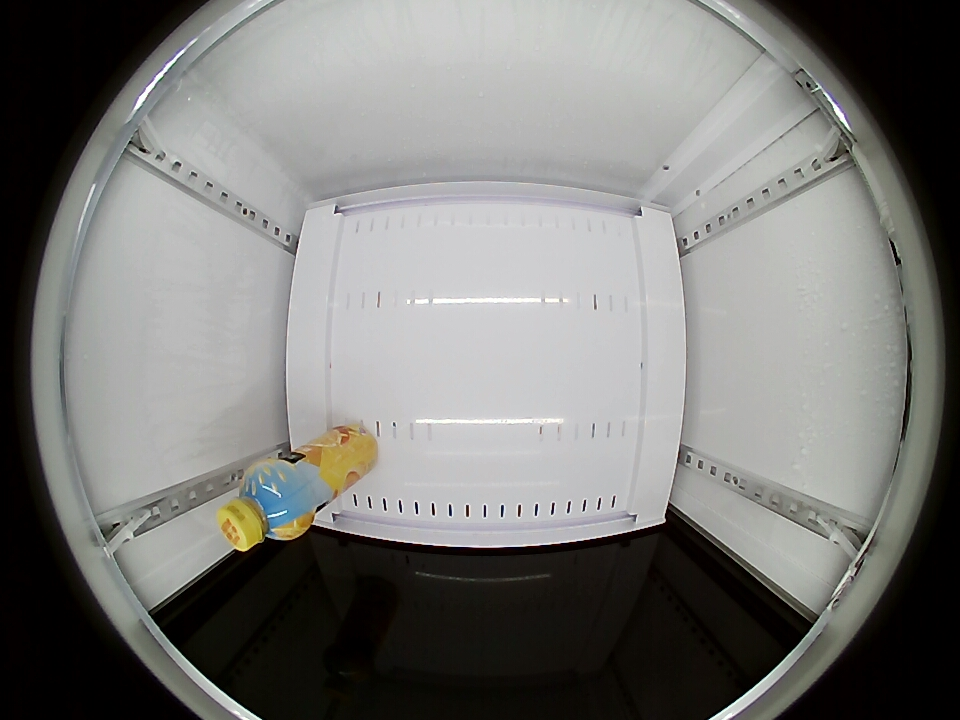guolicheng: (218, 460, 313, 551)
